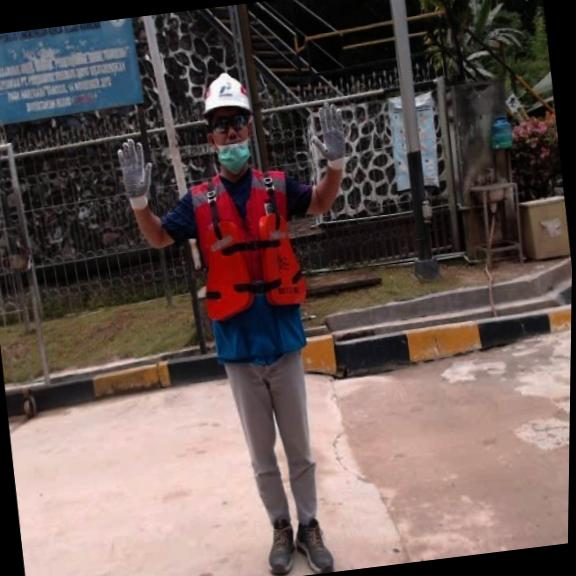safety_vest: (193, 206, 311, 320)
